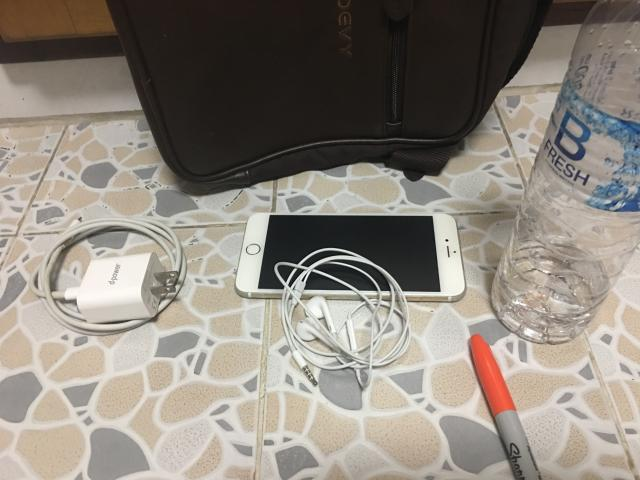Mobile phone: (235, 214, 466, 301)
Pen: (471, 335, 540, 480)
bottle: (492, 0, 640, 342)
wire: (275, 248, 410, 388), (29, 218, 186, 335)
